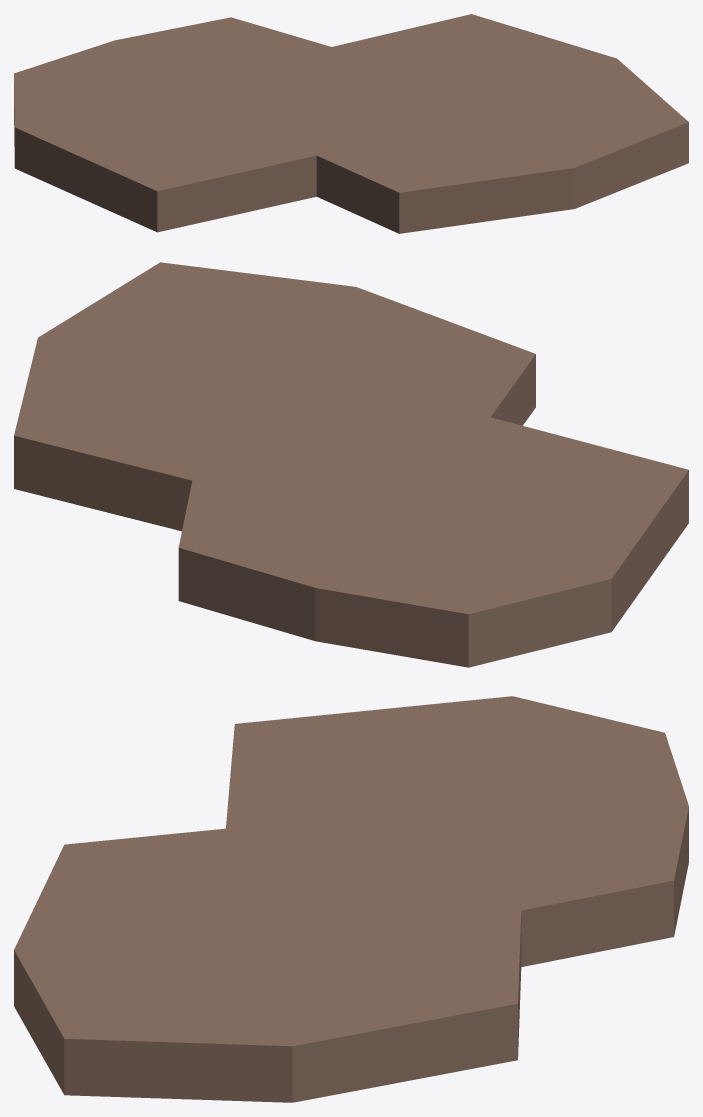
Rendered from SM_island02.fbx.
3 views of the same model, one above another, from view 1: azimuth 30°, elevation 25°; view 2: azimuth 150°, elevation 25°; view 3: azimuth 270°, elevation 25° (orthographic). The views are drawn at different scales.
Visible parts, largest first — view 1: SM_island02; view 2: SM_island02; view 3: SM_island02.
Part boxes in pixels (x1,y1,x2,y2): SM_island02: (14,14,688,233); SM_island02: (14,262,688,667); SM_island02: (14,696,688,1102).
Size of the model in its own units: 1449 by 109 by 1181.
